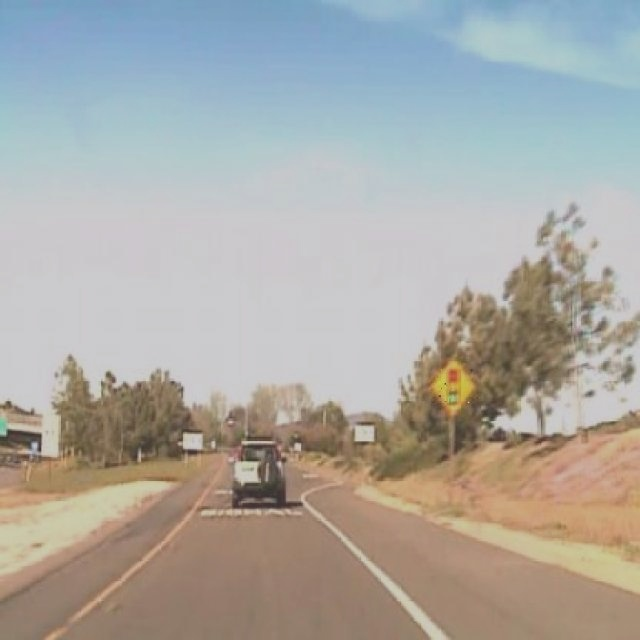signalAhead: (431, 357, 475, 415)
